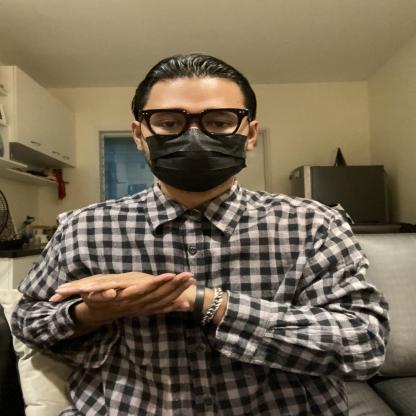Love: (44, 232, 270, 350)
